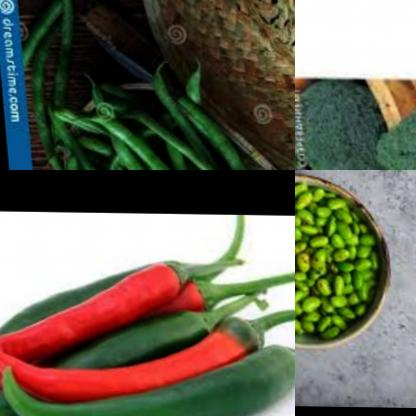beans: (58, 57, 295, 170), (295, 170, 389, 358), (20, 0, 93, 170)
broccoli: (295, 67, 396, 170), (363, 79, 416, 170)
hot pepper: (0, 209, 295, 416)
